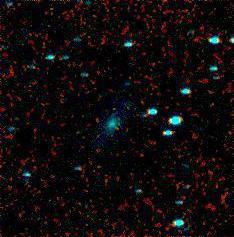star: (65, 120, 95, 150)
